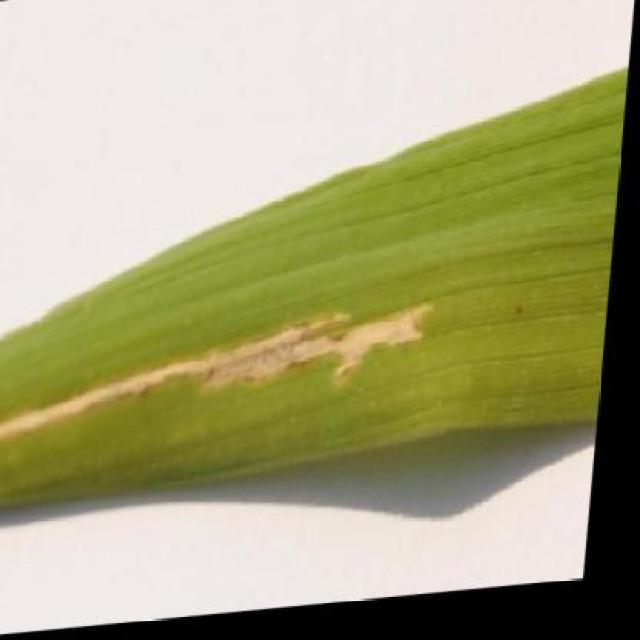Brown_Spot: (0, 60, 631, 491), (0, 282, 445, 508)
